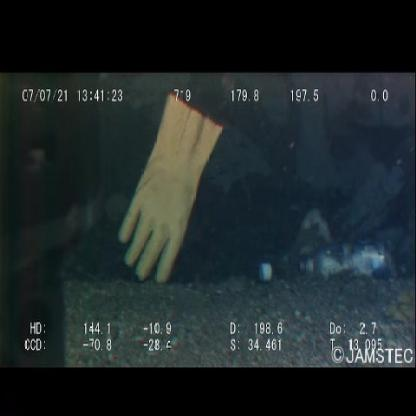Rác: (254, 248, 299, 292)
